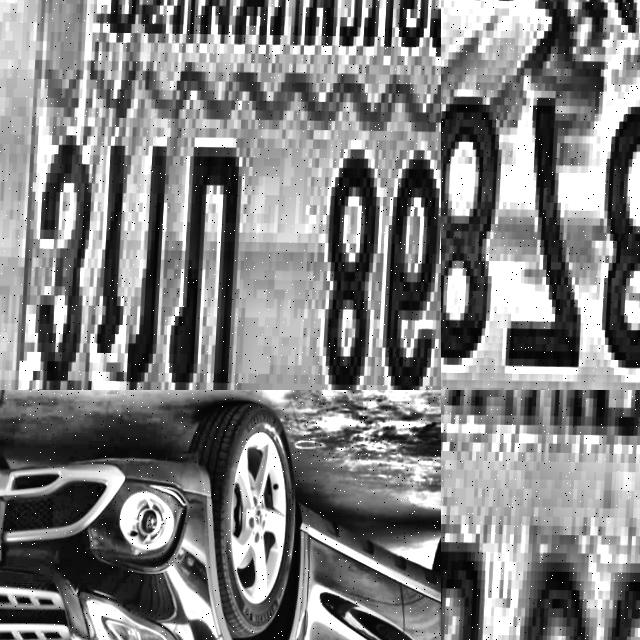license-plate: (0, 0, 441, 390), (441, 0, 640, 390), (441, 390, 640, 640)
